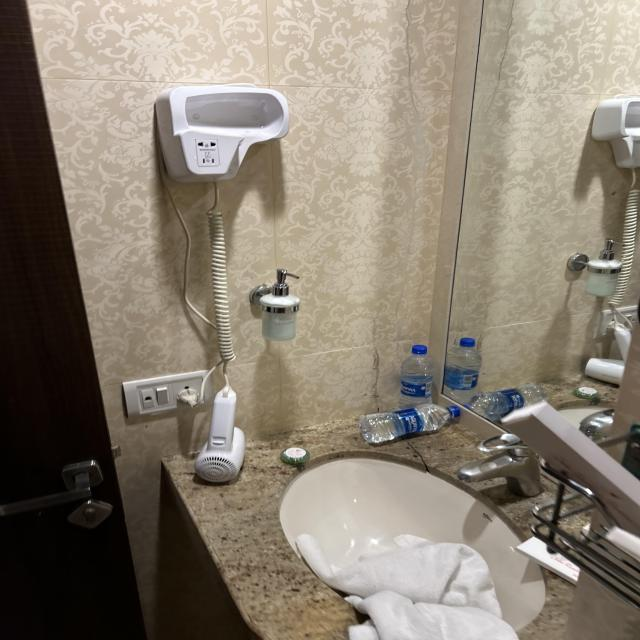mess: (112, 370, 640, 640)
